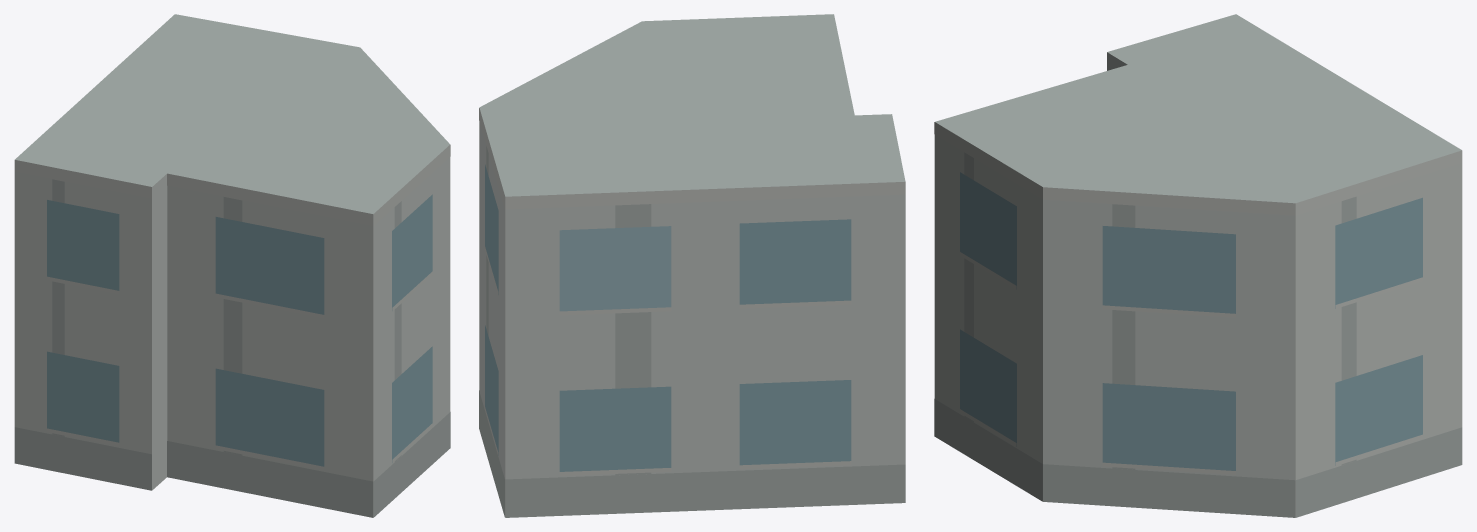
Rendered from residential-477307a8-31c3-4718-b7a2-c859110c9932.glb.
3 renders of one model, left to right at view 1: azimuth 30°, elevation 25°; view 2: azimuth 150°, elevation 25°; view 3: azimuth 270°, elevation 25°, orthographic. The views are drawn at different scales.
Visible parts, largest first — view 1: residential-477307a8-31c3-4718-b7a2-c859110c9932.tmp; view 2: residential-477307a8-31c3-4718-b7a2-c859110c9932.tmp; view 3: residential-477307a8-31c3-4718-b7a2-c859110c9932.tmp.
Part boxes in pixels (x1,y1,x2,y2): residential-477307a8-31c3-4718-b7a2-c859110c9932.tmp: [14, 14, 450, 517]; residential-477307a8-31c3-4718-b7a2-c859110c9932.tmp: [479, 14, 905, 517]; residential-477307a8-31c3-4718-b7a2-c859110c9932.tmp: [934, 14, 1462, 517].
Size of the model in its own units: 7.88 by 6.1 by 9.28.
